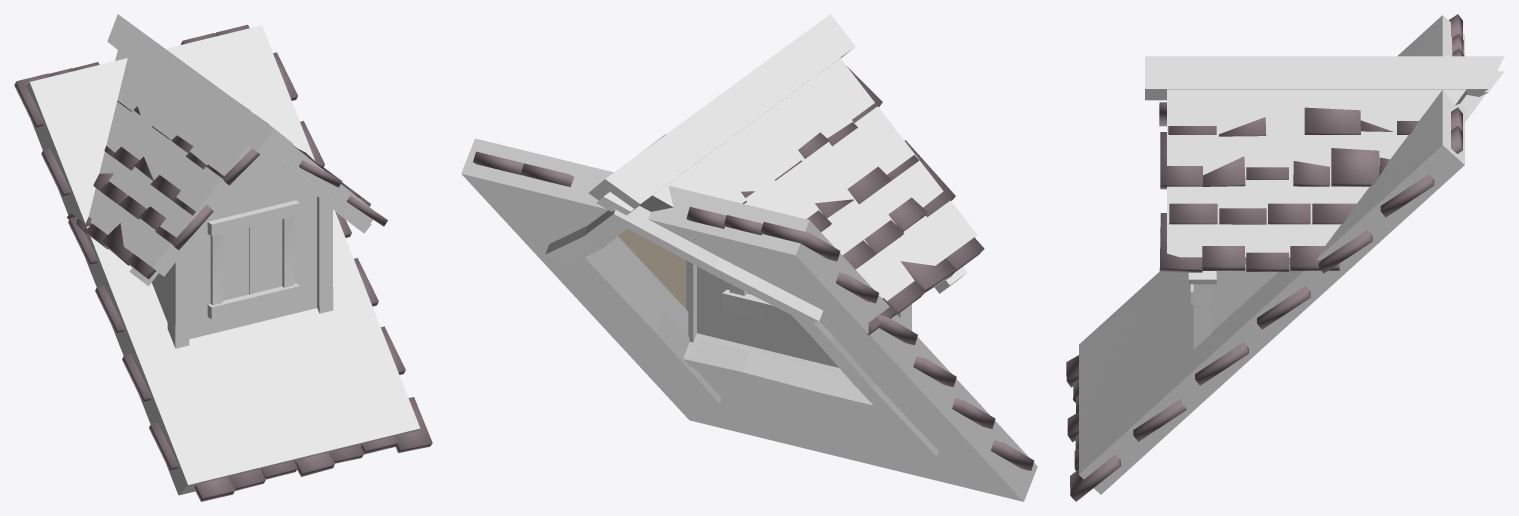
The model's file is Roof_Dormer_1.fbx.
The picture shows the model from 3 angles, left to right: view 1: azimuth 30°, elevation 25°; view 2: azimuth 150°, elevation 25°; view 3: azimuth 270°, elevation 25°; orthographic projection. The views are drawn at different scales.
Visible parts, largest first — view 1: Roof_Dormer_1_COL0, Roof_Dormer_1_LOD0; view 2: Roof_Dormer_1_COL0, Roof_Dormer_1_LOD0; view 3: Roof_Dormer_1_COL0, Roof_Dormer_1_LOD0.
Boxes of the visible parts, left/top/right/bottom form: Roof_Dormer_1_COL0: left=26, top=14, right=420, bottom=495; Roof_Dormer_1_LOD0: left=14, top=24, right=432, bottom=501; Roof_Dormer_1_COL0: left=461, top=14, right=1037, bottom=501; Roof_Dormer_1_LOD0: left=462, top=66, right=1034, bottom=501; Roof_Dormer_1_COL0: left=1079, top=15, right=1504, bottom=479; Roof_Dormer_1_LOD0: left=1066, top=14, right=1504, bottom=501.
Size of what is drawn, in the model's own units: 214 by 269 by 285.
